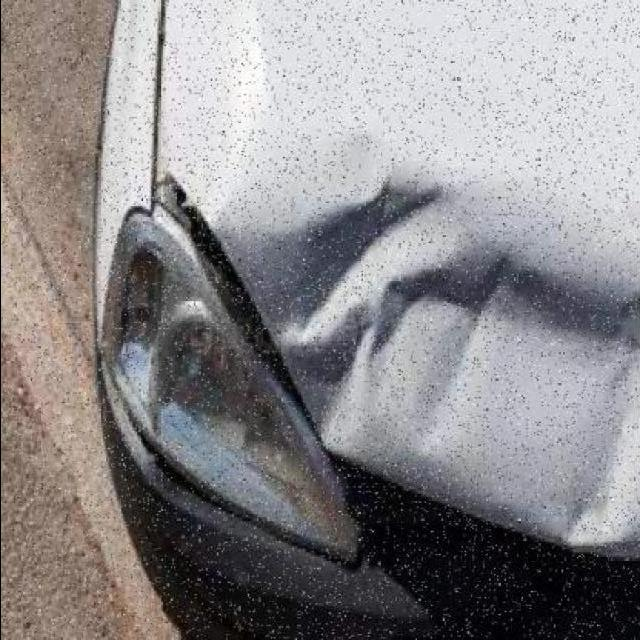bonnet-dent: (155, 1, 635, 465)
